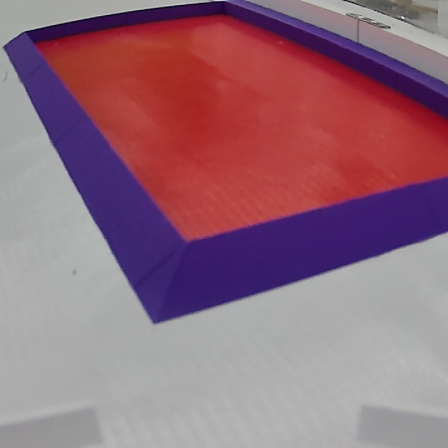red_aim: (7, 0, 446, 324)
